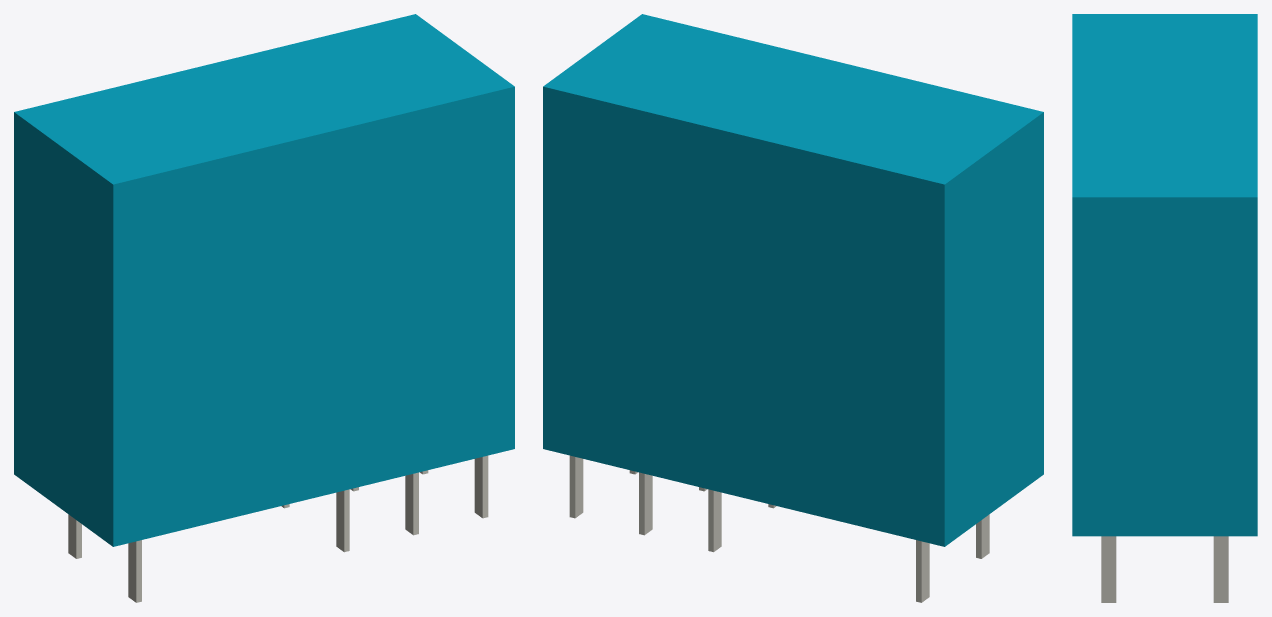
Rendered from kc-relay_dpdt_finder_40.52.glb.
3 views of the same model, side by side, from view 1: azimuth 30°, elevation 25°; view 2: azimuth 150°, elevation 25°; view 3: azimuth 270°, elevation 25° (orthographic). The views are drawn at different scales.
Parts seen in each view (by area): view 1: 0_0.3333333333333333_0.5_0, 0.6666666666666666_0.6666666666666666_0.5833333333333334_0.8; view 2: 0_0.3333333333333333_0.5_0, 0.6666666666666666_0.6666666666666666_0.5833333333333334_0.8; view 3: 0_0.3333333333333333_0.5_0, 0.6666666666666666_0.6666666666666666_0.5833333333333334_0.8.
Boxes of the visible parts, x1,y1,x2,y2 form: 0_0.3333333333333333_0.5_0: (14,14,514,546); 0.6666666666666666_0.6666666666666666_0.5833333333333334_0.8: (68,455,488,602); 0_0.3333333333333333_0.5_0: (543,14,1043,546); 0.6666666666666666_0.6666666666666666_0.5833333333333334_0.8: (569,455,989,602); 0_0.3333333333333333_0.5_0: (1072,14,1257,536); 0.6666666666666666_0.6666666666666666_0.5833333333333334_0.8: (1101,536,1228,602).
Size of the model in its own units: 2.9 by 3.03 by 1.24.
